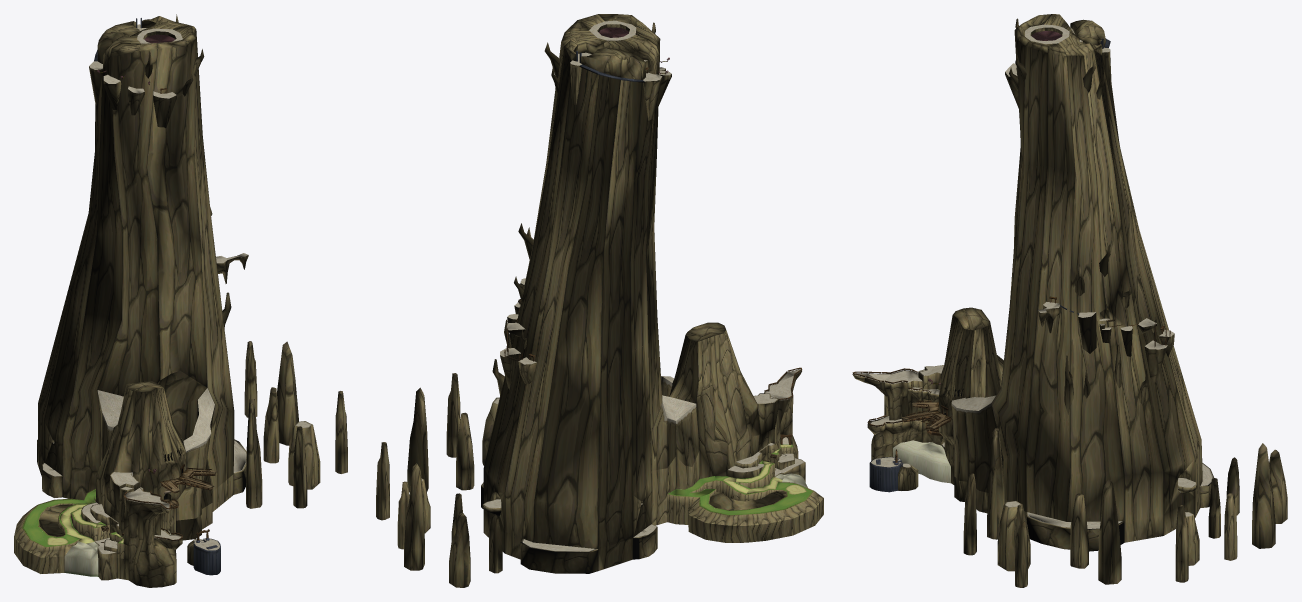
File: island_3.glb
The picture shows the model from 3 angles, left to right: view 1: azimuth 30°, elevation 25°; view 2: azimuth 150°, elevation 25°; view 3: azimuth 270°, elevation 25°; orthographic projection. The views are drawn at different scales.
Visible parts, largest first — view 1: mesh-1, mesh-6, mesh-3, mesh-9, mesh-8, mesh-0, mesh-5, mesh-4; view 2: mesh-1, mesh-6, mesh-8, mesh-3, mesh-9; view 3: mesh-1, mesh-6, mesh-3, mesh-9, mesh-0, mesh-5, mesh-4.
Part boxes in pixels (x1,y1,x2,y2): mesh-1: [14, 14, 347, 587]; mesh-6: [37, 391, 320, 580]; mesh-3: [43, 24, 310, 553]; mesh-9: [24, 490, 170, 576]; mesh-8: [14, 488, 123, 558]; mesh-0: [101, 88, 215, 542]; mesh-5: [94, 18, 220, 575]; mesh-4: [101, 469, 216, 542]; mesh-1: [376, 14, 823, 587]; mesh-6: [409, 369, 805, 573]; mesh-8: [667, 445, 823, 525]; mesh-3: [421, 20, 802, 551]; mesh-9: [668, 444, 810, 514]; mesh-1: [856, 14, 1287, 587]; mesh-6: [852, 365, 1213, 571]; mesh-3: [855, 24, 1212, 528]; mesh-9: [893, 440, 950, 483]; mesh-0: [852, 68, 1170, 462]; mesh-5: [869, 38, 1110, 492]; mesh-4: [901, 319, 1169, 430].
Size of what is drawn, in the model's own units: 7.36 by 9.7 by 8.07.
11 materials, 11 textured.
